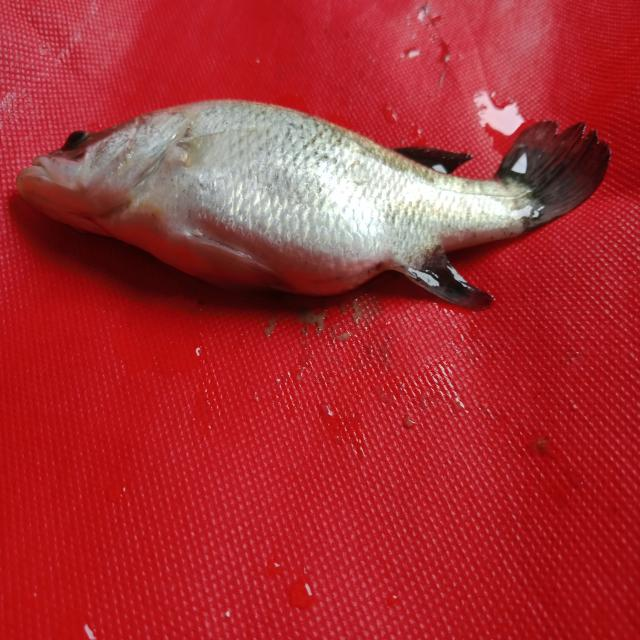ikan: (14, 85, 621, 316)
